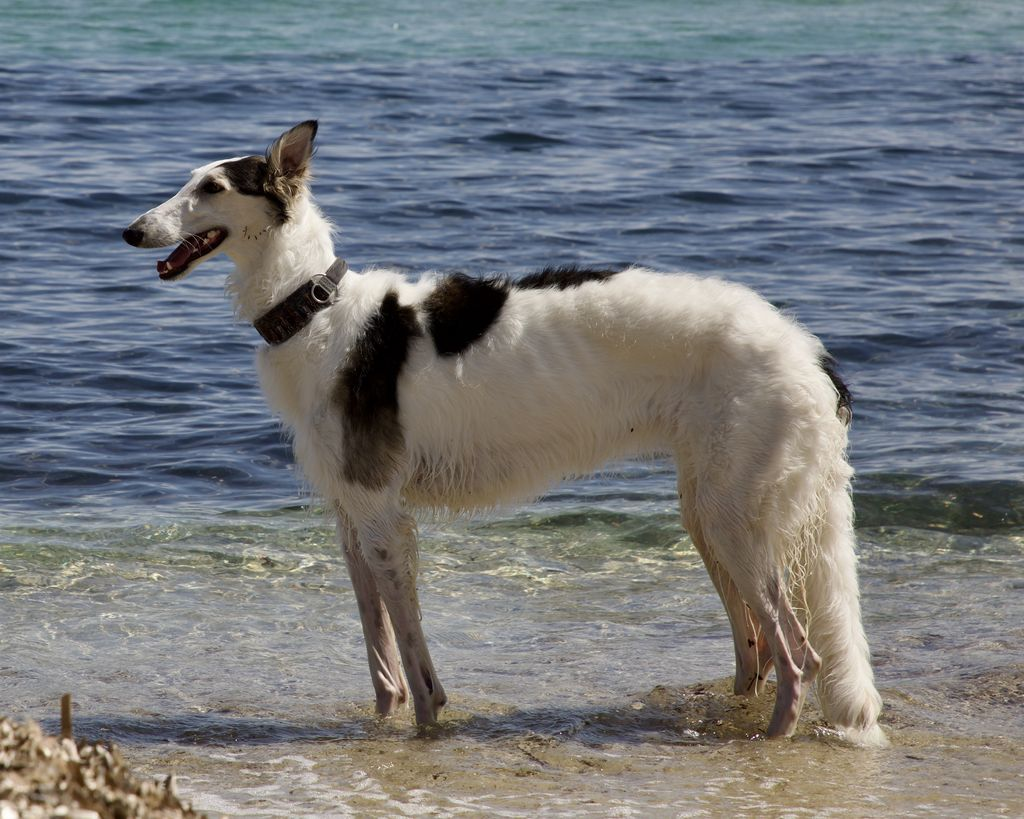borzoi: (85, 109, 921, 755)
